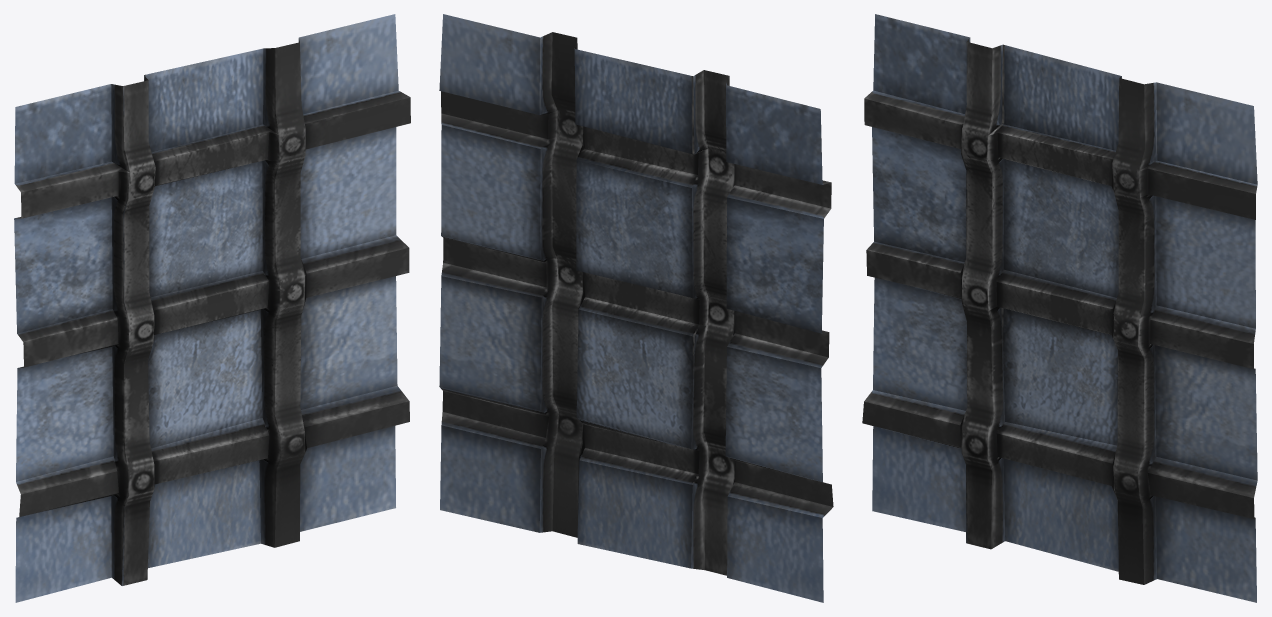
File: Glass 3.FBX
The picture shows the model from 3 angles, left to right: view 1: azimuth 30°, elevation 25°; view 2: azimuth 150°, elevation 25°; view 3: azimuth 330°, elevation 25°; orthographic projection.
Visible parts, largest first — view 1: Glass 3; view 2: Glass 3; view 3: Glass 3.
Boxes of the visible parts, x1,y1,x2,y2 form: Glass 3: (14, 14, 410, 602); Glass 3: (439, 14, 833, 602); Glass 3: (862, 14, 1257, 602).
Bounding box in the file's own units: 32.98 × 2.04 × 40.29.
Materials: 1 (1 with a texture image).
